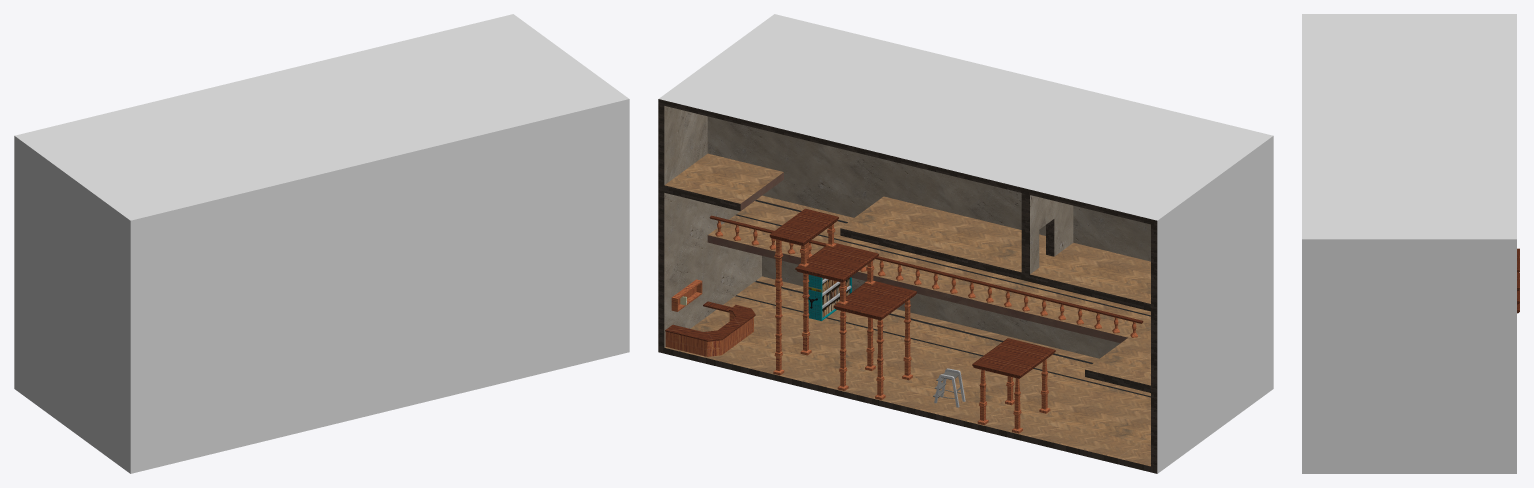
Rendered from archive_v2.glb.
3 renders of one model, left to right at view 1: azimuth 30°, elevation 25°; view 2: azimuth 150°, elevation 25°; view 3: azimuth 270°, elevation 25°, orthographic. The views are drawn at different scales.
Visible parts, largest first — view 1: ArchiveLayout; view 2: ArchiveLayout, ReceptionPult, Platform, PlatformSupports.001, Platform.002, Platform.001, Supports, PlatformSupports.004, Platform.003, Railing, PlatformSupports, ArchiveShelf (+1 smaller); view 3: ArchiveLayout.
Boxes of the visible parts, box(x1,y1,x2,y2) form: ArchiveLayout: box(14, 14, 629, 473); ArchiveLayout: box(658, 14, 1273, 473); ReceptionPult: box(665, 305, 755, 356); Platform: box(972, 338, 1055, 378); PlatformSupports.001: box(837, 299, 912, 400); Platform.002: box(795, 242, 878, 282); Platform.001: box(833, 280, 916, 320); Supports: box(715, 220, 1137, 337); PlatformSupports.004: box(773, 239, 811, 375); Platform.003: box(769, 208, 838, 245); Railing: box(709, 215, 1143, 323); PlatformSupports: box(977, 359, 1050, 433); ArchiveShelf: box(808, 274, 851, 320); ArchiveLayout: box(1302, 14, 1516, 473).
Size of the model in its own units: 11.53 by 5.59 by 4.71.
Materials: 17 (11 with a texture image).
